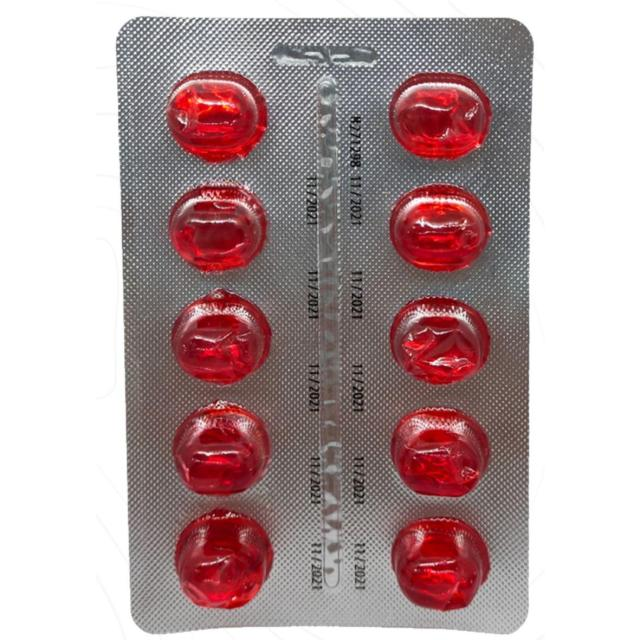blister: (110, 11, 544, 636)
